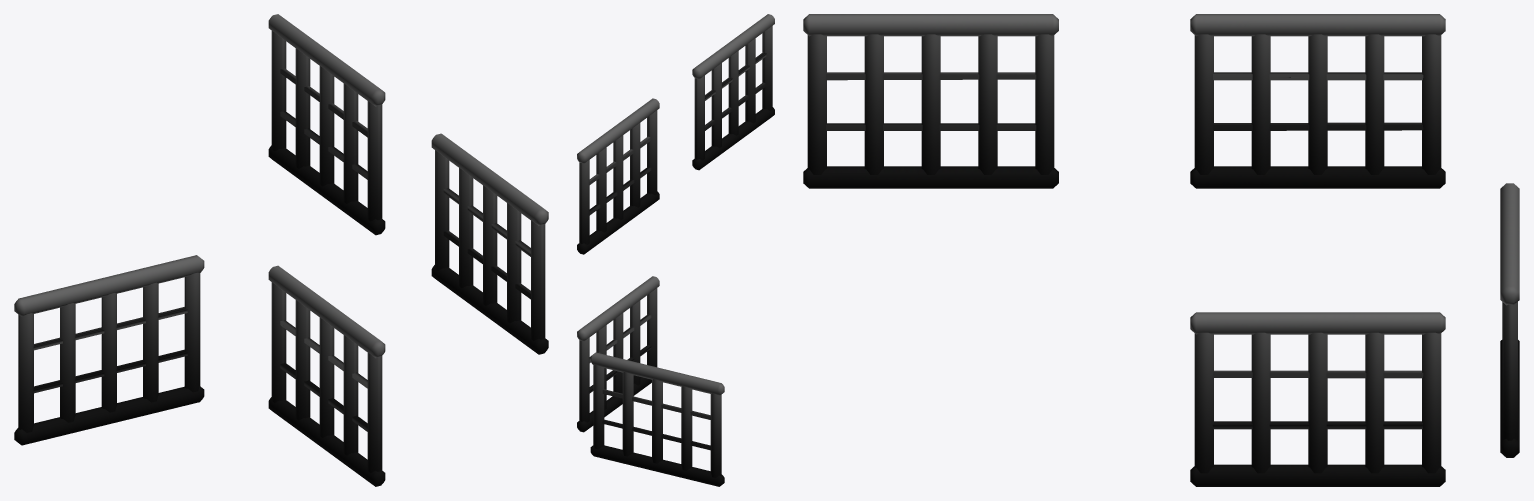
File: SM_Wood_Window_03.fbx
3 renders of one model, left to right at view 1: azimuth 30°, elevation 25°; view 2: azimuth 150°, elevation 25°; view 3: azimuth 270°, elevation 25°, orthographic. The views are drawn at different scales.
Parts seen in each view (by area): view 1: SM_Wood_Window_03; view 2: SM_Wood_Window_03; view 3: SM_Wood_Window_03.
Boxes of the visible parts, x1,y1,x2,y2 form: SM_Wood_Window_03: [14, 14, 548, 486]; SM_Wood_Window_03: [577, 14, 774, 486]; SM_Wood_Window_03: [803, 14, 1519, 486].
Bounding box in the file's own units: 1.57 × 2.51 × 3.47.
